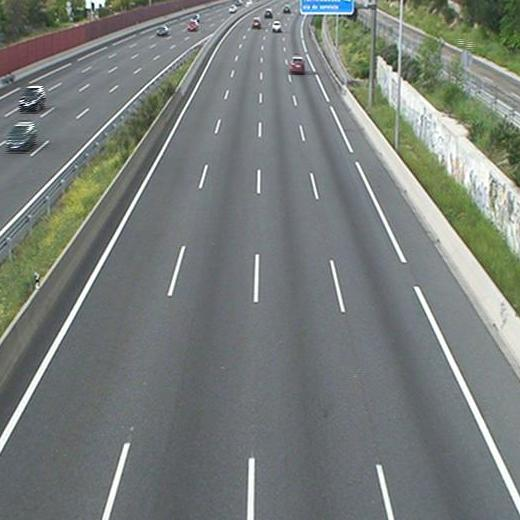car: (289, 56, 304, 71), (271, 21, 281, 31), (252, 19, 262, 28), (263, 9, 272, 19), (282, 5, 291, 13)
